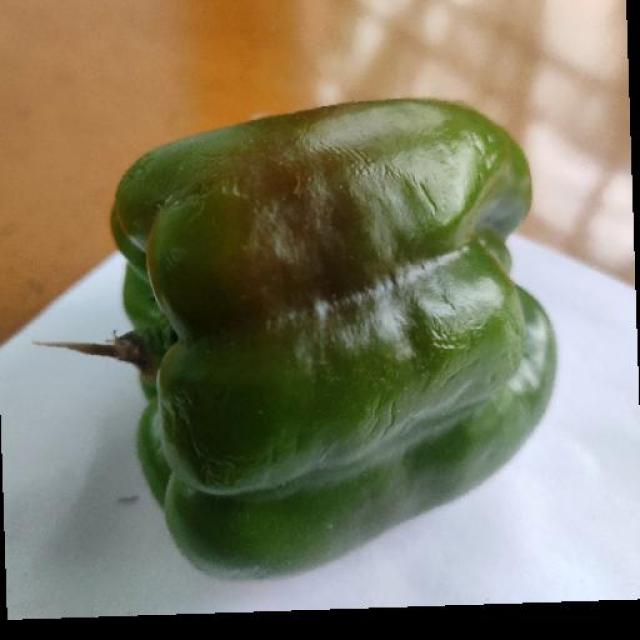Stale_Capsicum: (104, 71, 555, 551)
